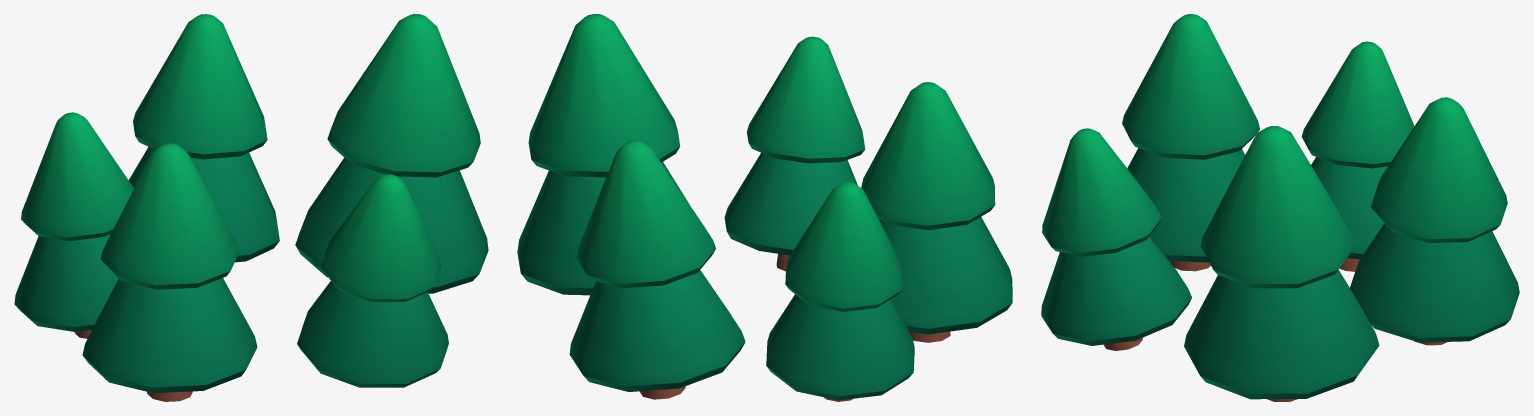
File: trees_B_medium.glb
3 views of the same model, side by side, from view 1: azimuth 30°, elevation 25°; view 2: azimuth 150°, elevation 25°; view 3: azimuth 270°, elevation 25° (orthographic).
Parts seen in each view (by area): view 1: trees_B_medium; view 2: trees_B_medium; view 3: trees_B_medium.
Boxes of the visible parts, box(x1,y1,x2,y2) form: trees_B_medium: box(14, 14, 488, 401); trees_B_medium: box(517, 14, 1012, 401); trees_B_medium: box(1041, 14, 1519, 401).
Size of the model in its own units: 1.86 by 1.17 by 1.83.
1 material, 1 textured.
